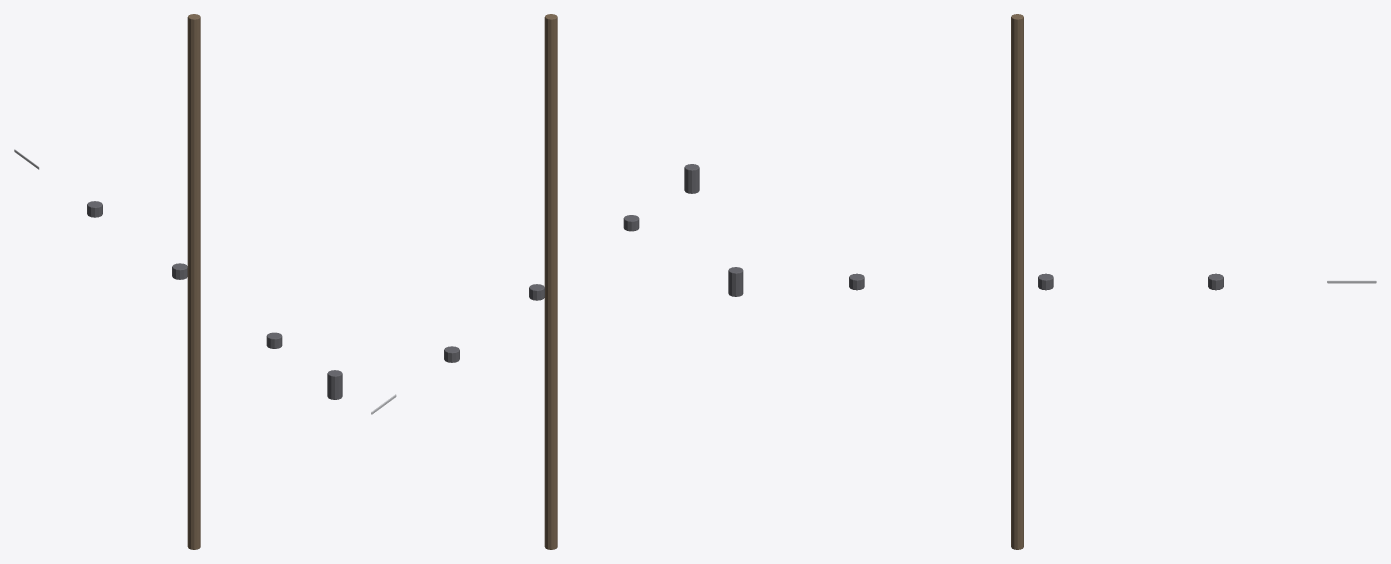
File: spear.glb
The picture shows the model from 3 angles, left to right: view 1: azimuth 30°, elevation 25°; view 2: azimuth 150°, elevation 25°; view 3: azimuth 270°, elevation 25°; orthographic projection.
Visible parts, largest first — view 1: war_spear; view 2: war_spear; view 3: war_spear.
Part boxes in pixels (<box>): war_spear: <box>14,14,342,549</box>; war_spear: <box>371,14,699,549</box>; war_spear: <box>728,14,1376,549</box>.
Size of the model in its own units: 0.042 by 1.55 by 1.71.
